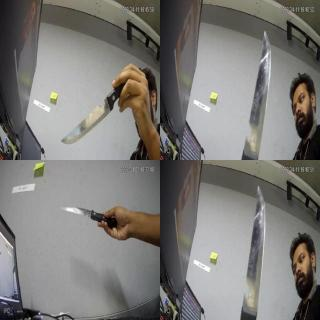knife: (240, 32, 278, 160), (238, 183, 271, 319), (59, 98, 115, 150), (57, 202, 119, 232)
